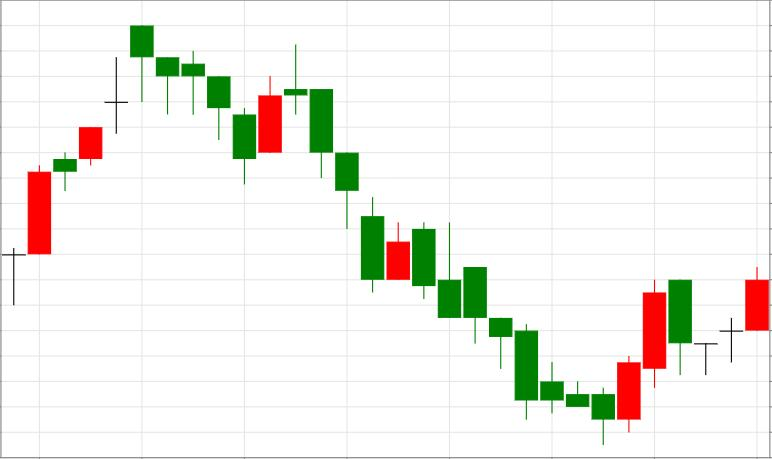hanging_man_fall: (2, 26, 154, 305)
inverse_hammer_rise: (285, 45, 461, 317)
